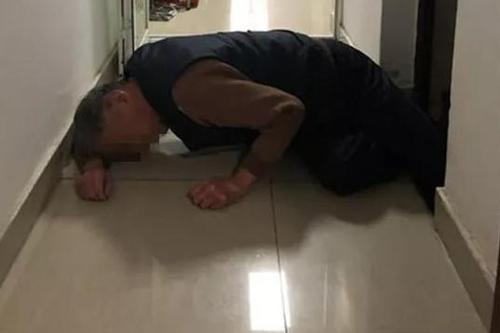fall: (52, 14, 454, 219)
